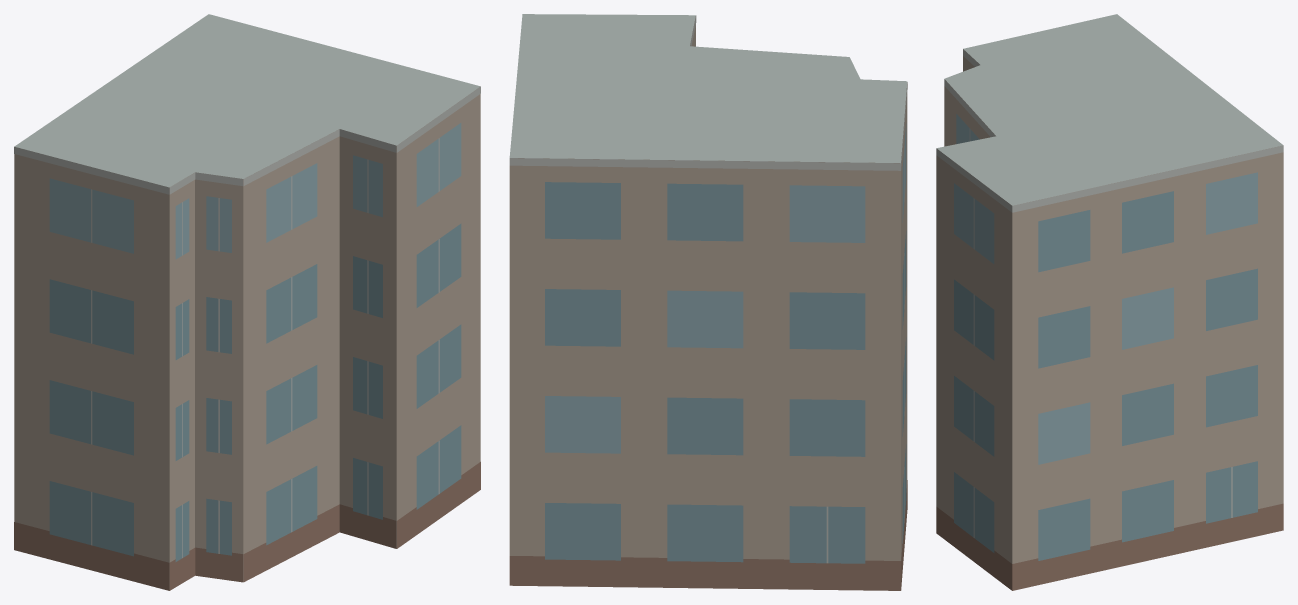
Rendered from survey-upis-32628262.glb.
3 renders of one model, left to right at view 1: azimuth 30°, elevation 25°; view 2: azimuth 150°, elevation 25°; view 3: azimuth 270°, elevation 25°, orthographic. The views are drawn at different scales.
Parts seen in each view (by area): view 1: survey-upis-32628262.tmp; view 2: survey-upis-32628262.tmp; view 3: survey-upis-32628262.tmp.
Part boxes in pixels (x1,y1,x2,y2): survey-upis-32628262.tmp: (14,14,480,590); survey-upis-32628262.tmp: (509,14,907,590); survey-upis-32628262.tmp: (936,14,1283,590).
Bounding box in the file's own units: 14.43 × 13.5 × 11.04.
